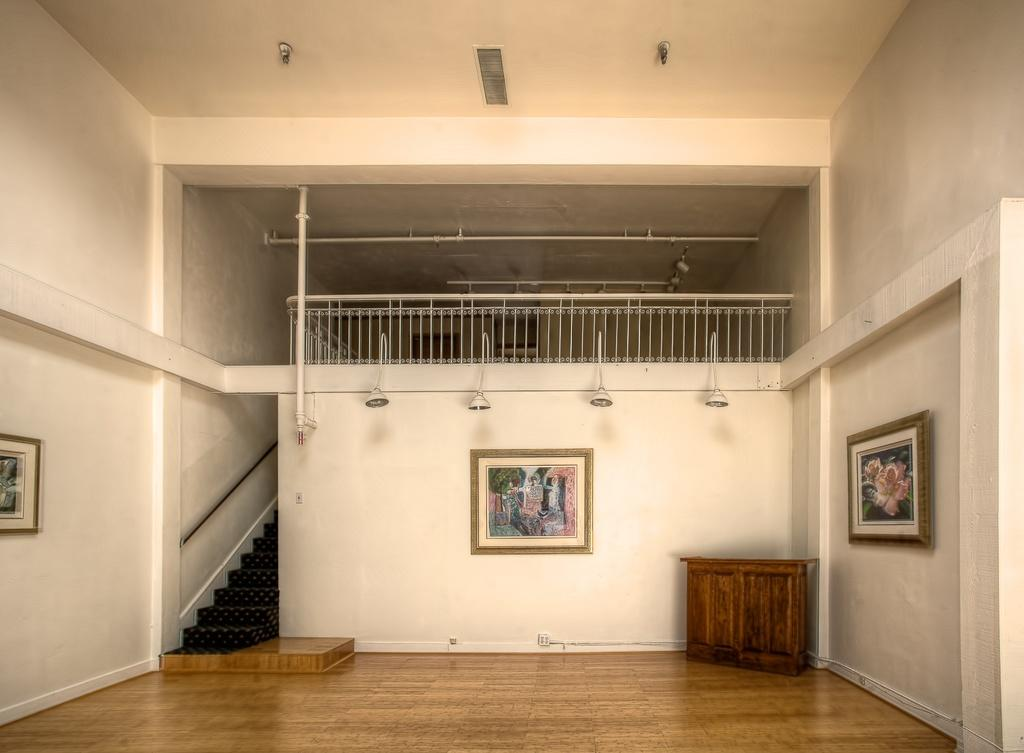cabinet_door: (733, 569, 801, 660), (690, 572, 732, 645)
